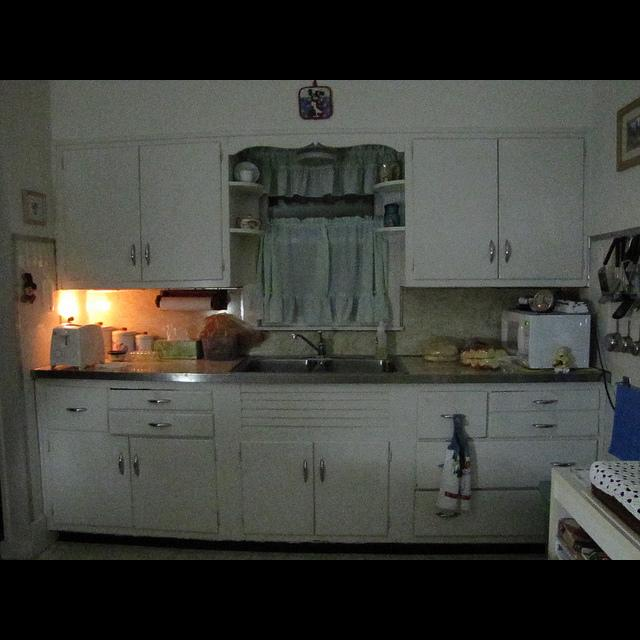Microwave: (499, 308, 590, 370)
